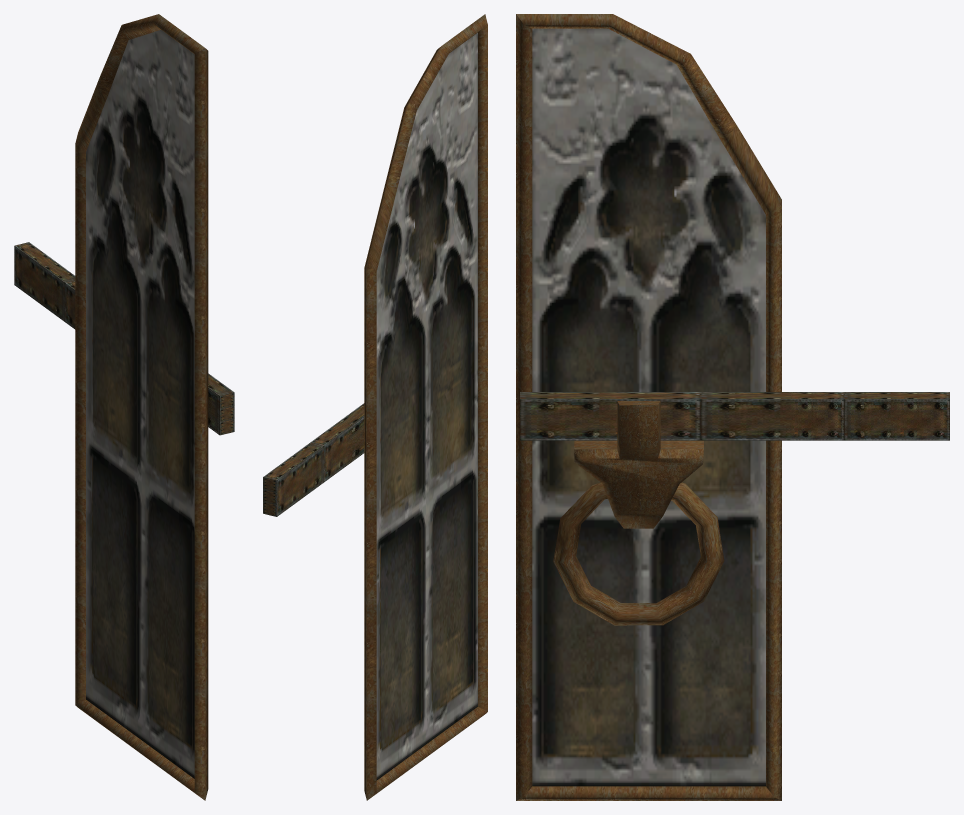
Rendered from ARKENSTON_DOOR_01.fbx.
3 views of the same model, side by side, from view 1: azimuth 30°, elevation 25°; view 2: azimuth 150°, elevation 25°; view 3: azimuth 270°, elevation 25° (orthographic). The views are drawn at different scales.
Visible parts, largest first — view 1: ARKENSTON_DOOR_01; view 2: ARKENSTON_DOOR_01; view 3: ARKENSTON_DOOR_01.
Boxes of the visible parts, <box> form: ARKENSTON_DOOR_01: <box>14,14,234,800</box>; ARKENSTON_DOOR_01: <box>263,14,487,800</box>; ARKENSTON_DOOR_01: <box>516,14,949,800</box>.
Bounding box in the file's own units: 7568 × 106589 × 53267.
Materials: 3 (3 with a texture image).
